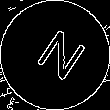N_SW: (24, 23, 86, 87)
